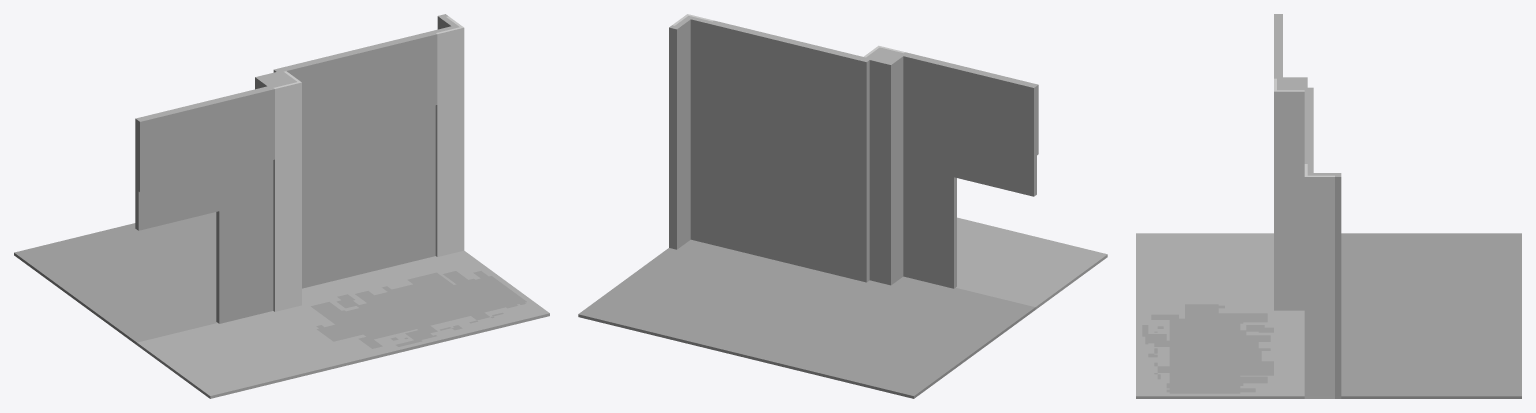
File: 4x2 first (2)-14.obj
3 renders of one model, left to right at view 1: azimuth 30°, elevation 25°; view 2: azimuth 150°, elevation 25°; view 3: azimuth 270°, elevation 25°, orthographic.
Visible parts, largest first — view 1: 4x2 first (2)-6; view 2: 4x2 first (2)-6; view 3: 4x2 first (2)-6.
Part boxes in pixels (left/top/right/bottom): 4x2 first (2)-6: left=14, top=14, right=549, bottom=398; 4x2 first (2)-6: left=578, top=14, right=1107, bottom=398; 4x2 first (2)-6: left=1136, top=14, right=1521, bottom=398.
Bounding box in the file's own units: 126 × 80 × 126.
Materials: 1 (1 with a texture image).
